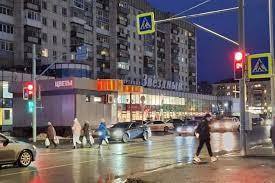tl: (232, 50, 247, 77), (26, 85, 35, 100)
